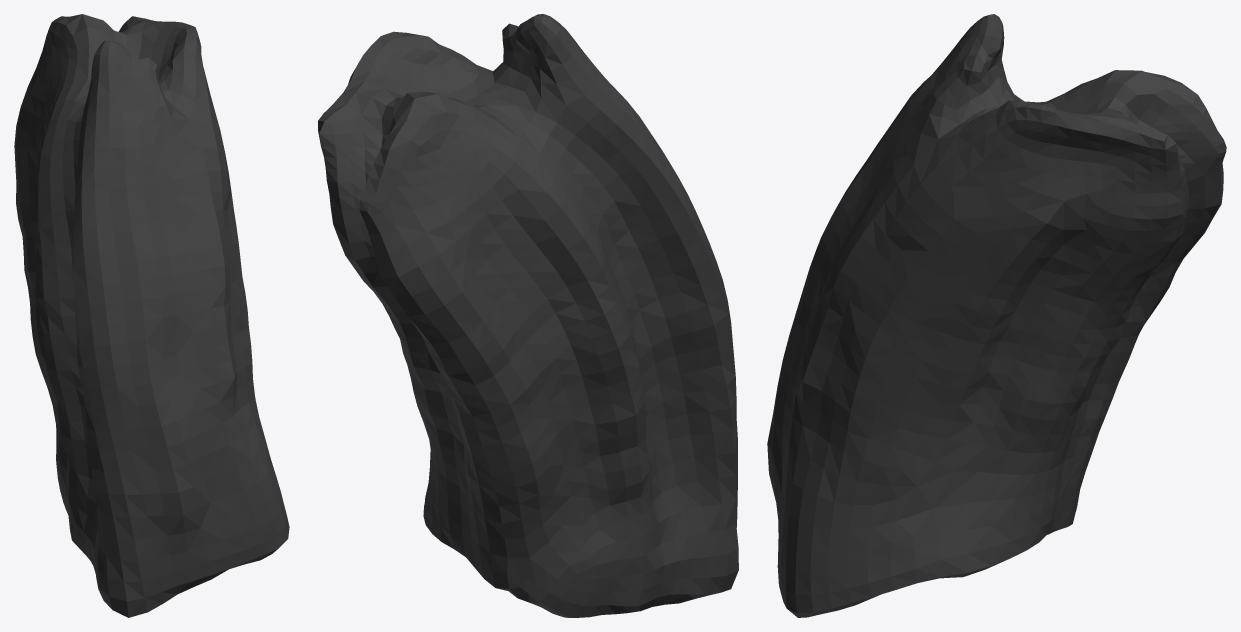
File: R_max_M3.glb
The picture shows the model from 3 angles, left to right: view 1: azimuth 30°, elevation 25°; view 2: azimuth 150°, elevation 25°; view 3: azimuth 270°, elevation 25°; orthographic projection. The views are drawn at different scales.
Parts seen in each view (by area): view 1: R_max_M3; view 2: R_max_M3; view 3: R_max_M3.
Boxes of the visible parts, x1,y1,x2,y2 form: R_max_M3: (14,14,289,617); R_max_M3: (318,14,738,617); R_max_M3: (767,14,1226,617).
Bounding box in the file's own units: 0.4405 × 1.05 × 0.7432.
1 material, 1 textured.
